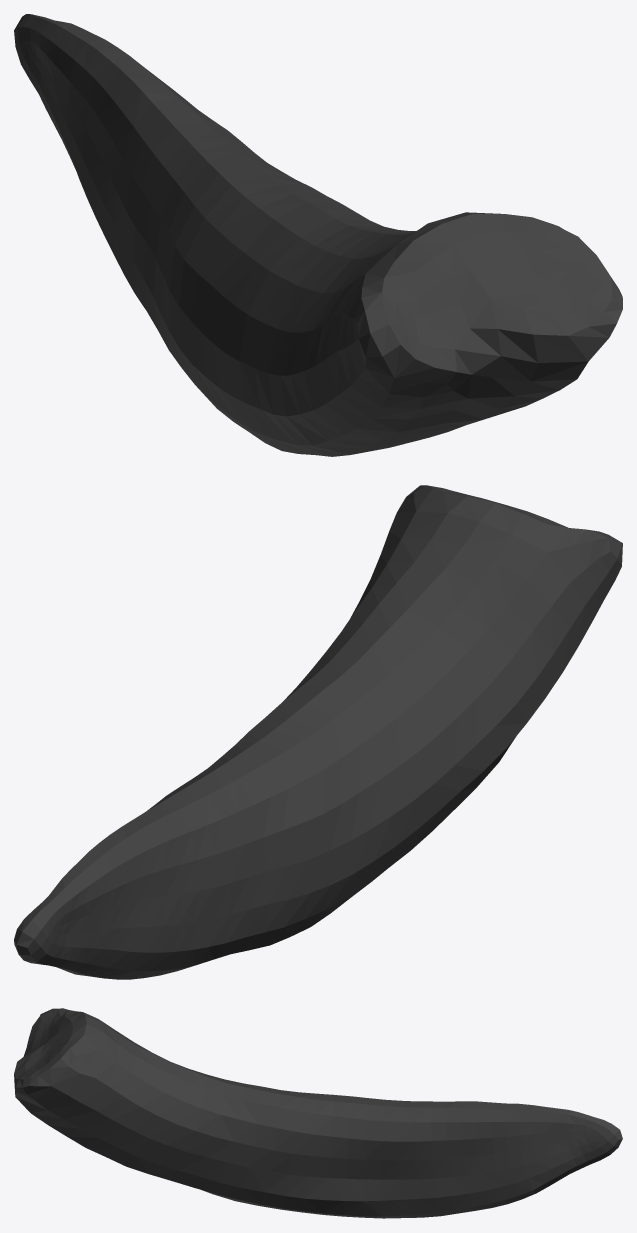
The model's file is L_mand_I1_copy000.glb.
3 views of the same model, one above another, from view 1: azimuth 30°, elevation 25°; view 2: azimuth 150°, elevation 25°; view 3: azimuth 270°, elevation 25° (orthographic). The views are drawn at different scales.
Parts seen in each view (by area): view 1: L_mand_I1_copy000; view 2: L_mand_I1_copy000; view 3: L_mand_I1_copy000.
Boxes of the visible parts, box(x1,y1,x2,y2) form: L_mand_I1_copy000: box(14, 14, 622, 456); L_mand_I1_copy000: box(14, 485, 622, 979); L_mand_I1_copy000: box(14, 1008, 622, 1218).
Bounding box in the file's own units: 0.0723 × 0.0984 × 0.2842.
Materials: 1 (1 with a texture image).
